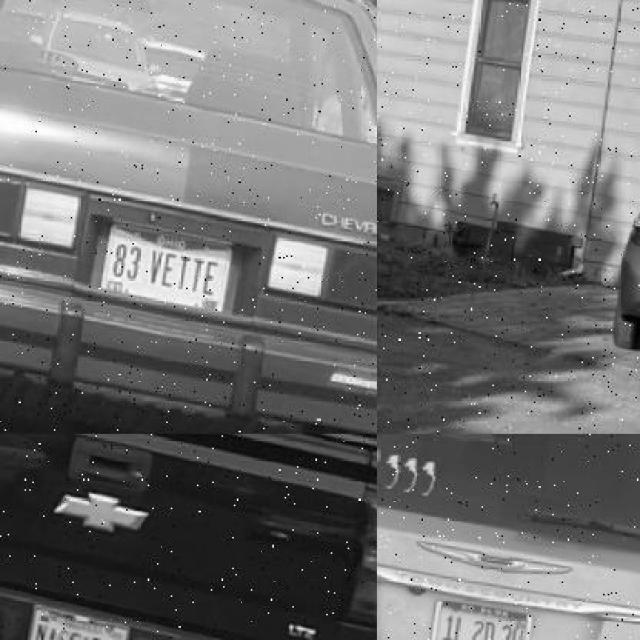LicensePlate: (105, 215, 237, 302), (435, 591, 539, 639), (32, 596, 139, 639)
